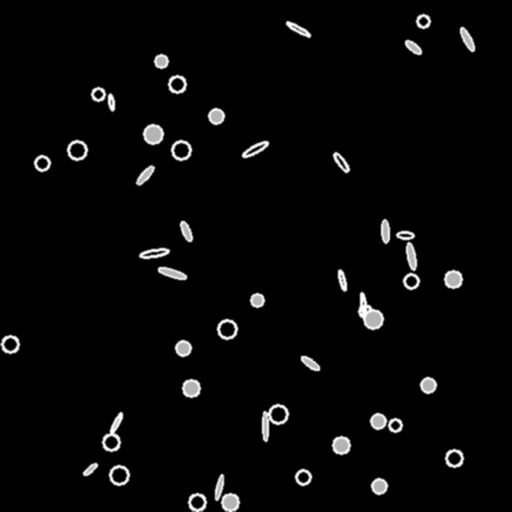pseudomonas: (241, 139, 269, 159), (285, 20, 311, 38), (458, 26, 476, 52), (135, 164, 155, 186), (332, 151, 350, 173), (158, 266, 186, 280), (300, 355, 320, 371), (109, 412, 123, 434), (179, 220, 193, 242), (139, 248, 169, 258), (404, 39, 422, 55), (406, 242, 416, 270), (214, 474, 224, 500), (82, 462, 98, 476), (337, 269, 347, 291), (359, 292, 367, 316), (381, 220, 389, 242), (262, 412, 268, 440), (107, 93, 115, 111), (396, 232, 414, 238)
synechocystis: (364, 310, 382, 328), (218, 320, 236, 338), (110, 466, 128, 484), (68, 141, 86, 159), (144, 125, 162, 143), (172, 141, 190, 159), (269, 405, 287, 423), (333, 437, 349, 453), (445, 271, 461, 287), (189, 494, 205, 510), (222, 494, 238, 510), (446, 450, 462, 466), (183, 380, 199, 396), (103, 434, 119, 450), (2, 336, 18, 352), (169, 76, 185, 92), (296, 470, 310, 484), (404, 274, 418, 288), (35, 156, 49, 170), (176, 341, 190, 355), (421, 378, 435, 392), (371, 414, 385, 428), (372, 479, 386, 493), (209, 109, 223, 123), (155, 55, 167, 67), (359, 305, 371, 317), (92, 88, 104, 100), (417, 15, 429, 27), (251, 294, 263, 306), (389, 419, 401, 431)
